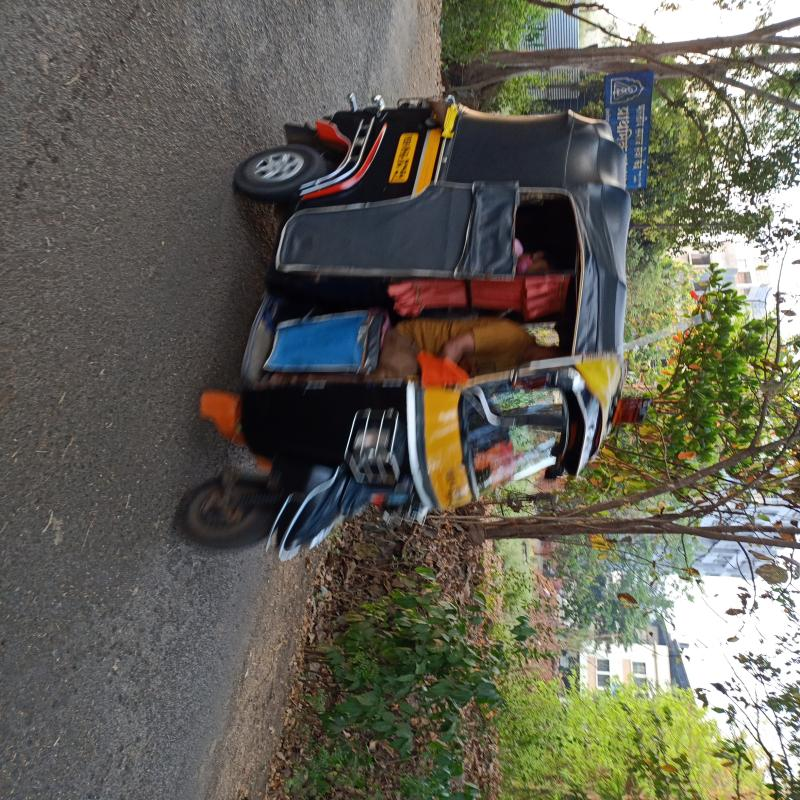auto: (236, 118, 625, 544)
